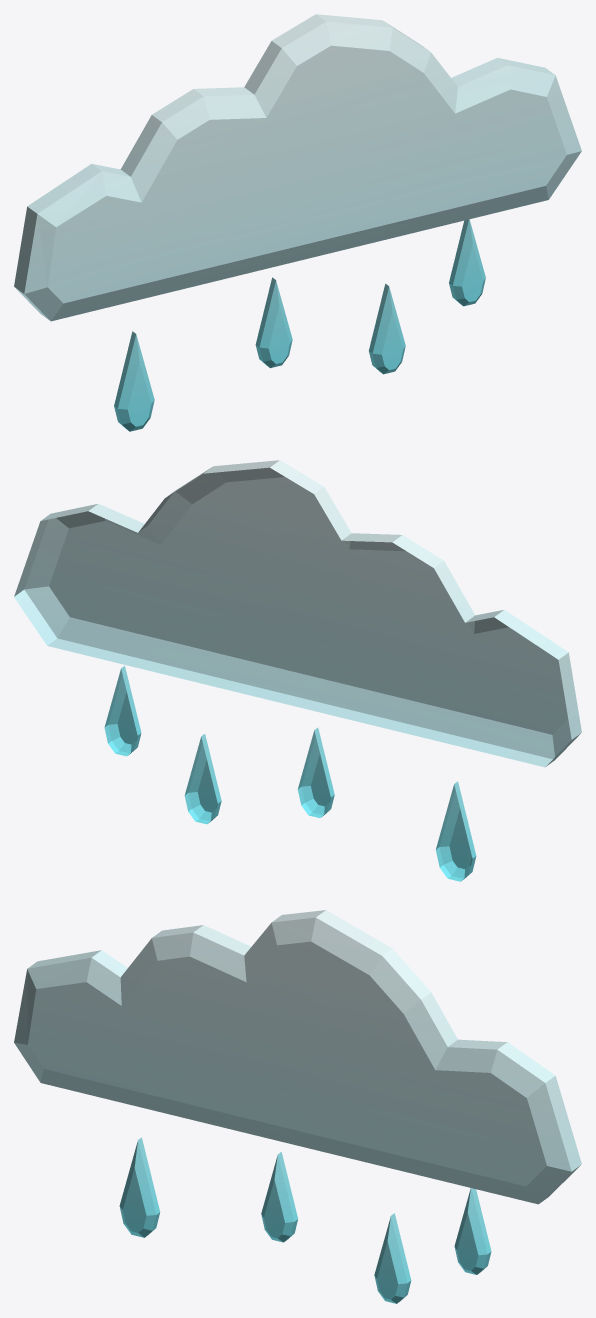
The model's file is Doll_OB_Cloud01.fbx.
The picture shows the model from 3 angles, top to bottom: view 1: azimuth 30°, elevation 25°; view 2: azimuth 150°, elevation 25°; view 3: azimuth 330°, elevation 25°; orthographic projection.
Parts seen in each view (by area): view 1: Doll_OB_cloud01; view 2: Doll_OB_cloud01; view 3: Doll_OB_cloud01.
Part boxes in pixels (x1,y1,x2,y2): Doll_OB_cloud01: [14, 14, 581, 431]; Doll_OB_cloud01: [14, 460, 581, 881]; Doll_OB_cloud01: [14, 910, 581, 1303].
Bounding box in the file's own units: 194 × 124 × 9.09.
Materials: 1 (1 with a texture image).
